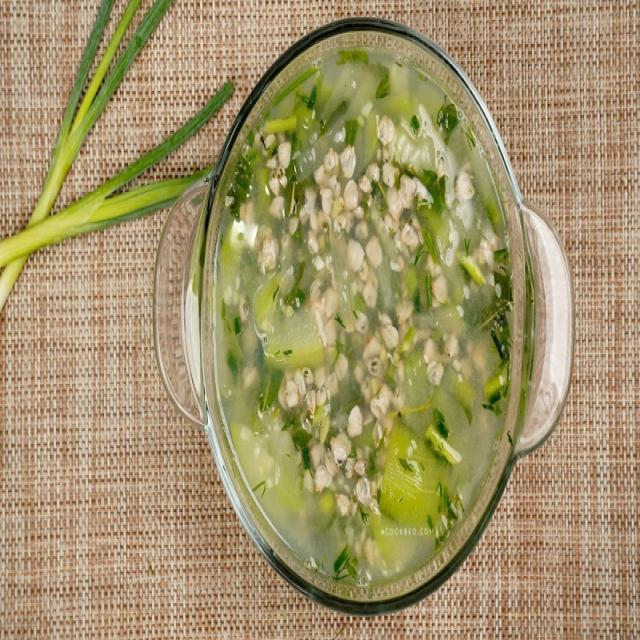canh bau: (190, 23, 537, 613)
